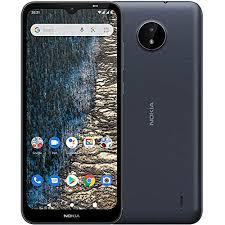Smartphone: (23, 3, 120, 221), (121, 5, 201, 225)
